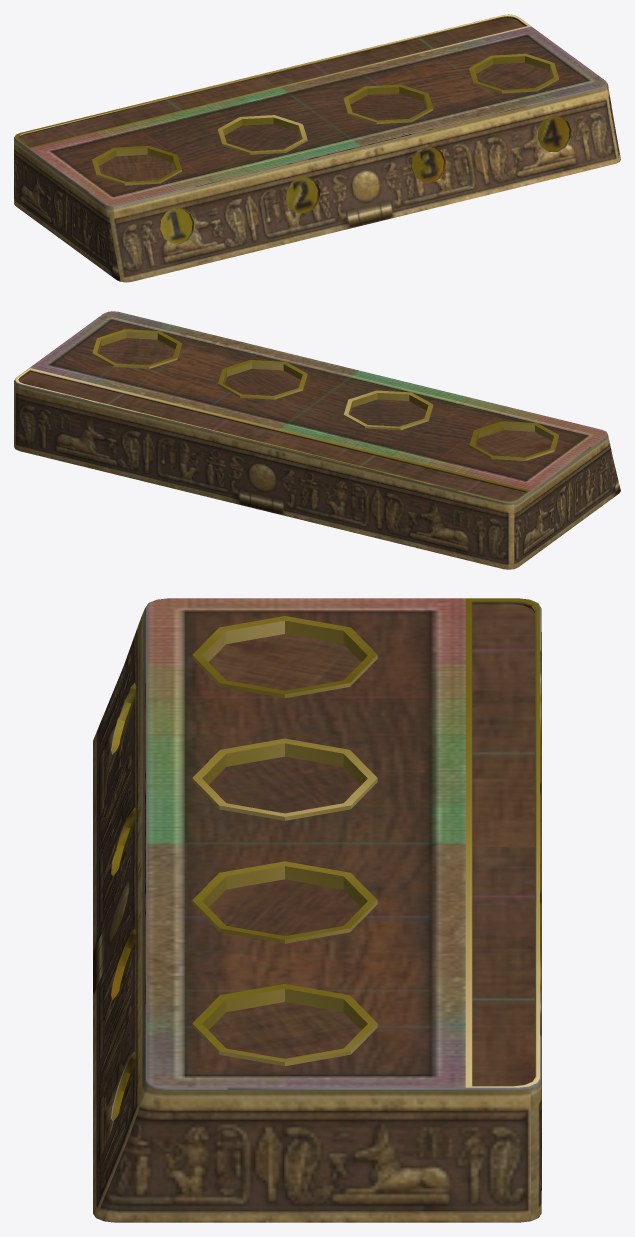
File: Puzzle 6 Plinth.fbx
3 views of the same model, one above another, from view 1: azimuth 30°, elevation 25°; view 2: azimuth 150°, elevation 25°; view 3: azimuth 270°, elevation 25° (orthographic). The views are drawn at different scales.
Parts seen in each view (by area): view 1: Cube; view 2: Cube; view 3: Cube.
Boxes of the visible parts, left/top/right/bottom form: Cube: left=14, top=14, right=620, bottom=282; Cube: left=14, top=311, right=620, bottom=569; Cube: left=93, top=598, right=541, bottom=1222.
Bounding box in the file's own units: 473 × 62.06 × 183.
